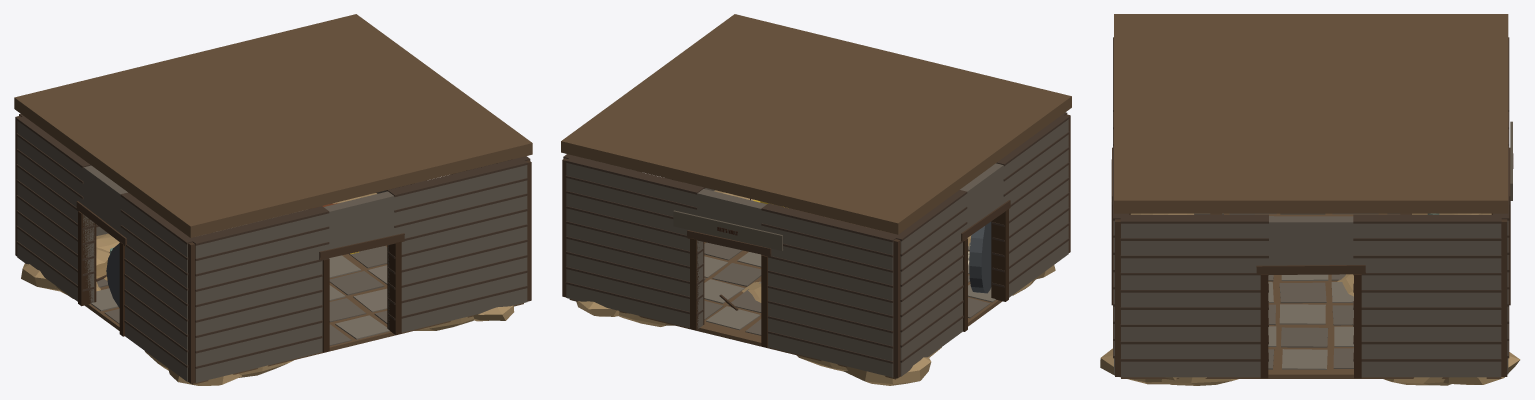
File: TownBldg_vault.glb
3 views of the same model, side by side, from view 1: azimuth 30°, elevation 25°; view 2: azimuth 150°, elevation 25°; view 3: azimuth 270°, elevation 25° (orthographic). The views are drawn at different scales.
Visible parts, largest first — view 1: TownBldg_vault.001; view 2: TownBldg_vault.001; view 3: TownBldg_vault.001.
Boxes of the visible parts, x1,y1,x2,y2 form: TownBldg_vault.001: [14, 14, 532, 385]; TownBldg_vault.001: [561, 14, 1071, 385]; TownBldg_vault.001: [1100, 14, 1520, 385].
Bounding box in the file's own units: 9.57 × 4.68 × 8.84.
